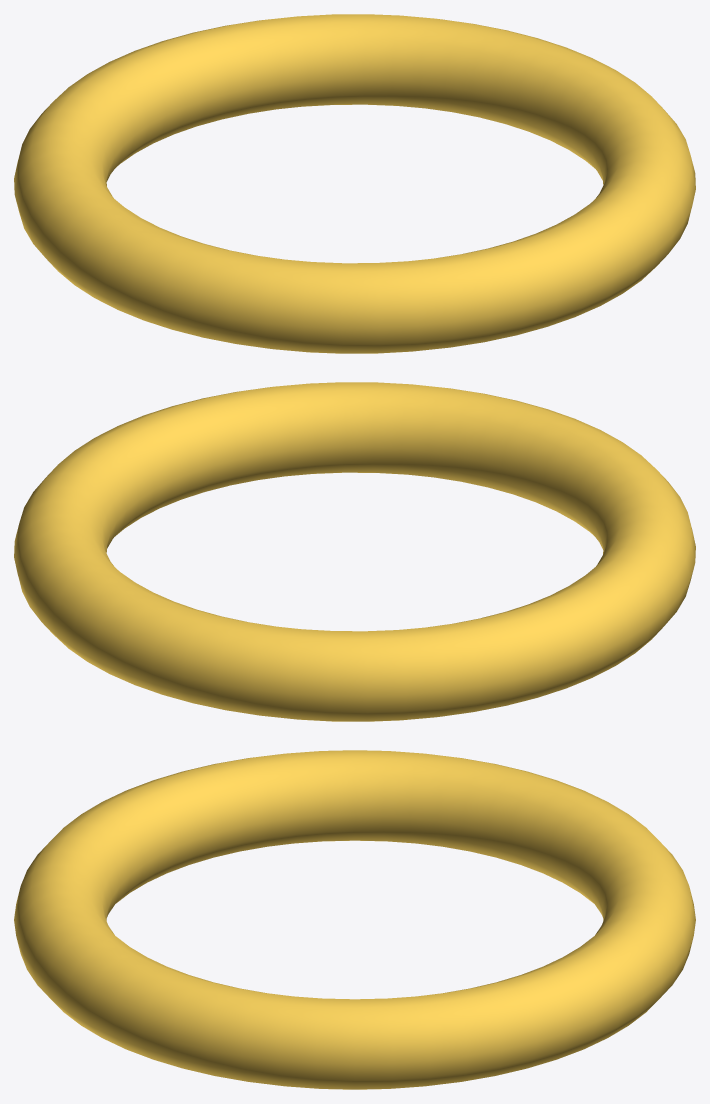
File: GoldenHalo.obj
3 renders of one model, top to bottom at view 1: azimuth 30°, elevation 25°; view 2: azimuth 150°, elevation 25°; view 3: azimuth 270°, elevation 25°, orthographic.
Parts seen in each view (by area): view 1: HaloRing; view 2: HaloRing; view 3: HaloRing.
Boxes of the visible parts, x1,y1,x2,y2 form: HaloRing: [14, 14, 695, 353]; HaloRing: [14, 382, 695, 721]; HaloRing: [14, 750, 695, 1089].
Bounding box in the file's own units: 0.972 × 0.1286 × 0.972.
